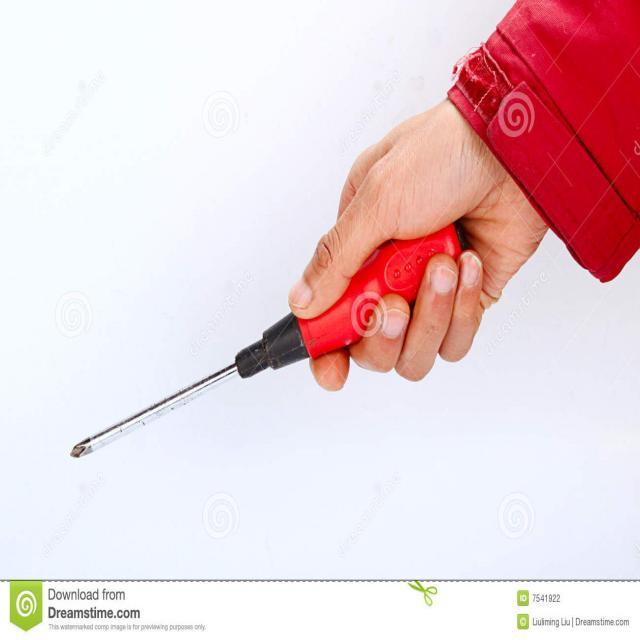screwdriver: (67, 222, 467, 470)
